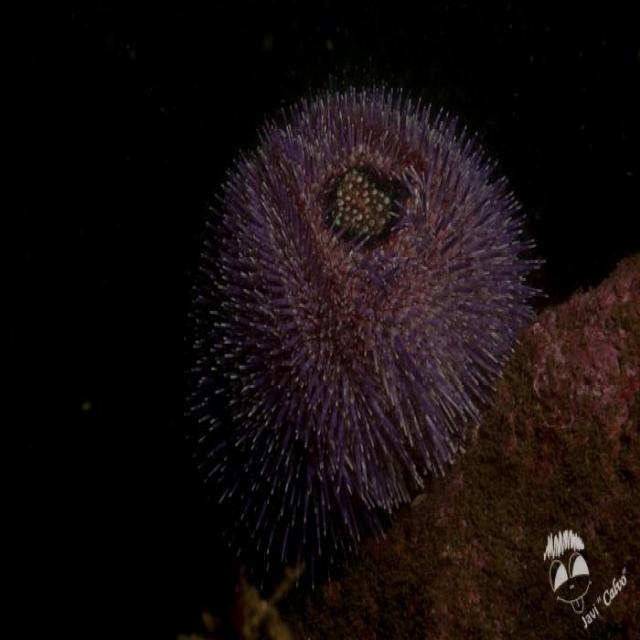Deniz Kestanesi: (178, 83, 546, 590)
